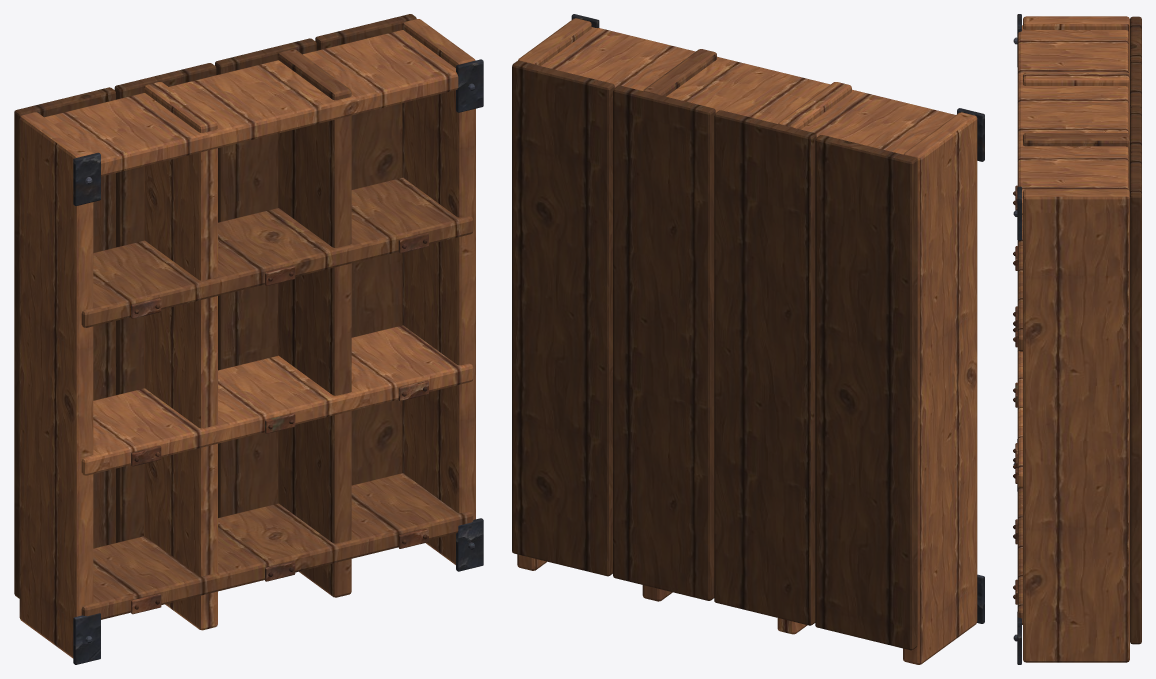
The model's file is ef_ingot_wall_empty.glb.
3 renders of one model, left to right at view 1: azimuth 30°, elevation 25°; view 2: azimuth 150°, elevation 25°; view 3: azimuth 270°, elevation 25°, orthographic. The views are drawn at different scales.
Visible parts, largest first — view 1: model; view 2: model; view 3: model.
Boxes of the visible parts, left/top/right/bottom form: model: left=14, top=14, right=483, bottom=664; model: left=512, top=14, right=984, bottom=664; model: left=1013, top=14, right=1141, bottom=664.
Bounding box in the file's own units: 1.1 × 1.3 × 0.3247.
Materials: 8 (8 with a texture image).
